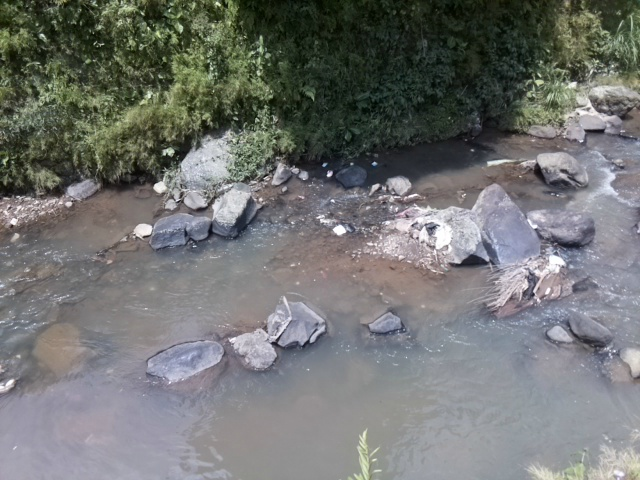Sampah_Styrofoam: (332, 223, 348, 236)
